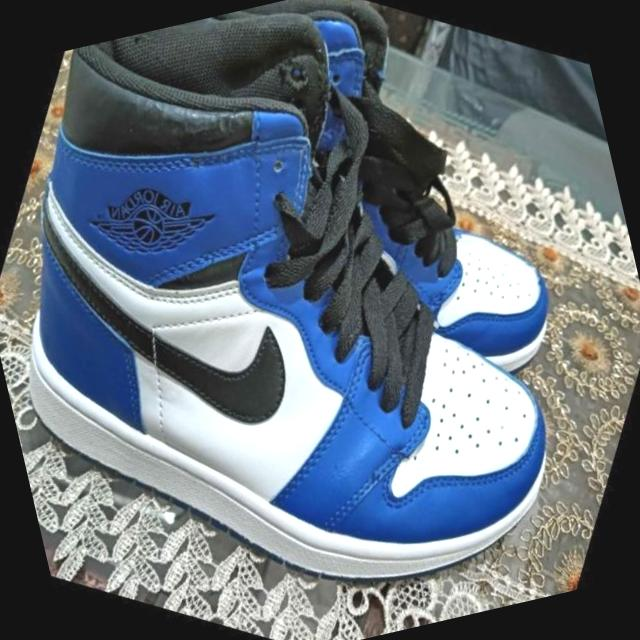nike_fake_jordan: (0, 0, 640, 640), (46, 0, 640, 471)
